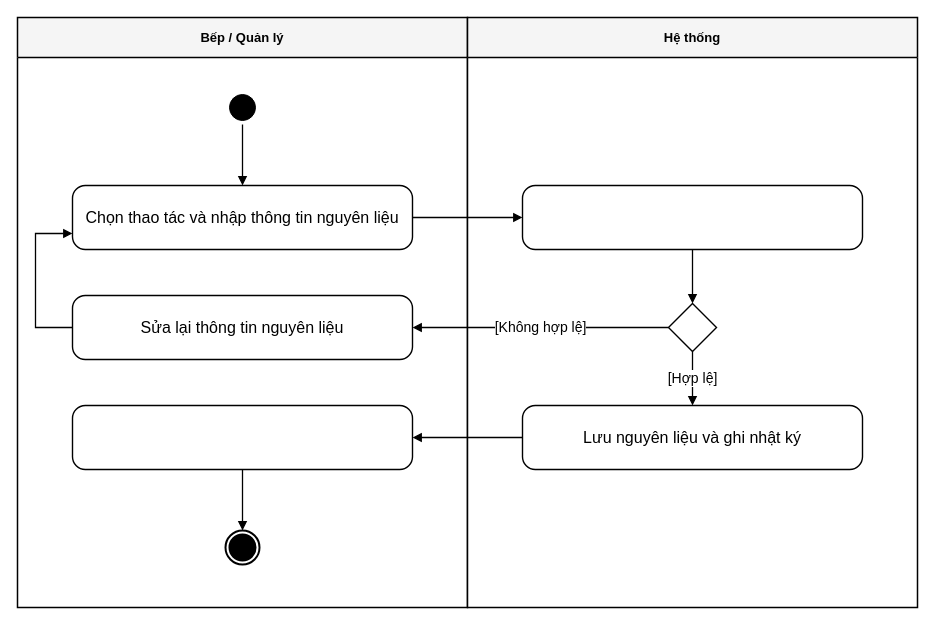
Some shapes in this 936 by 626 pixel diagram are drawn without their labels. The shapes that lost their labels are listed below. From the top down, each one's centre as x and y in pixels, then its label:
At point (692, 217): "Kiểm tra thông tin nguyên liệu".
At point (242, 437): "Xem danh sách nguyên liệu".
